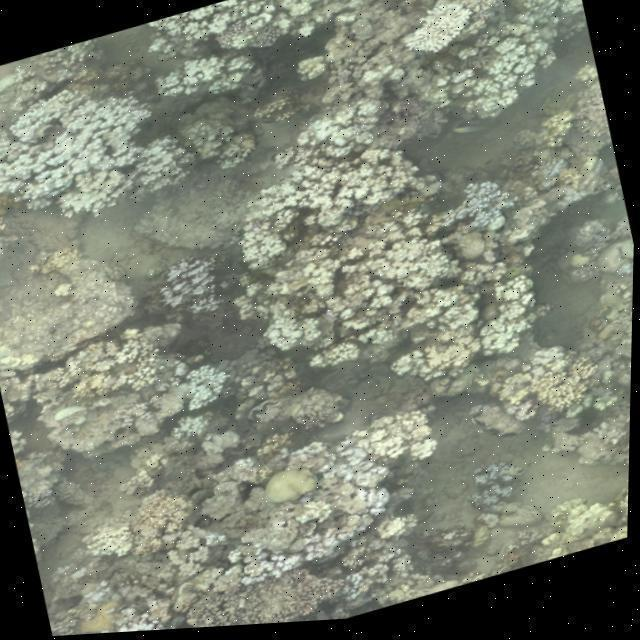Bleached Coral: (0, 58, 197, 244), (213, 510, 401, 606), (283, 421, 422, 548), (435, 165, 537, 258), (391, 0, 499, 82), (146, 350, 248, 432), (109, 599, 189, 635)
